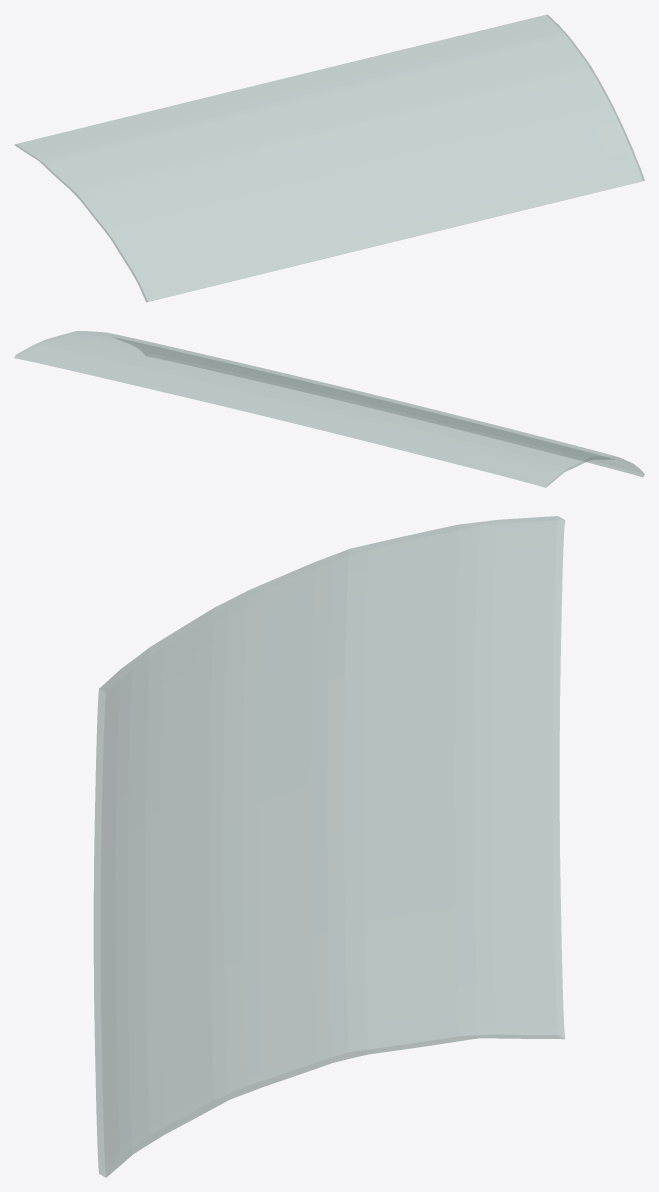
File: vidro_traseiro_hatch.glb
3 views of the same model, one above another, from view 1: azimuth 30°, elevation 25°; view 2: azimuth 150°, elevation 25°; view 3: azimuth 270°, elevation 25° (orthographic). The views are drawn at different scales.
Parts seen in each view (by area): view 1: vidro_traseiro_hatch_vidro; view 2: vidro_traseiro_hatch_vidro; view 3: vidro_traseiro_hatch_vidro.
Part boxes in pixels (x1,y1,x2,y2): vidro_traseiro_hatch_vidro: (15, 14, 644, 302); vidro_traseiro_hatch_vidro: (14, 331, 644, 487); vidro_traseiro_hatch_vidro: (93, 516, 565, 1177).
Bounding box in the file's own units: 1.22 × 0.1778 × 0.4668.
